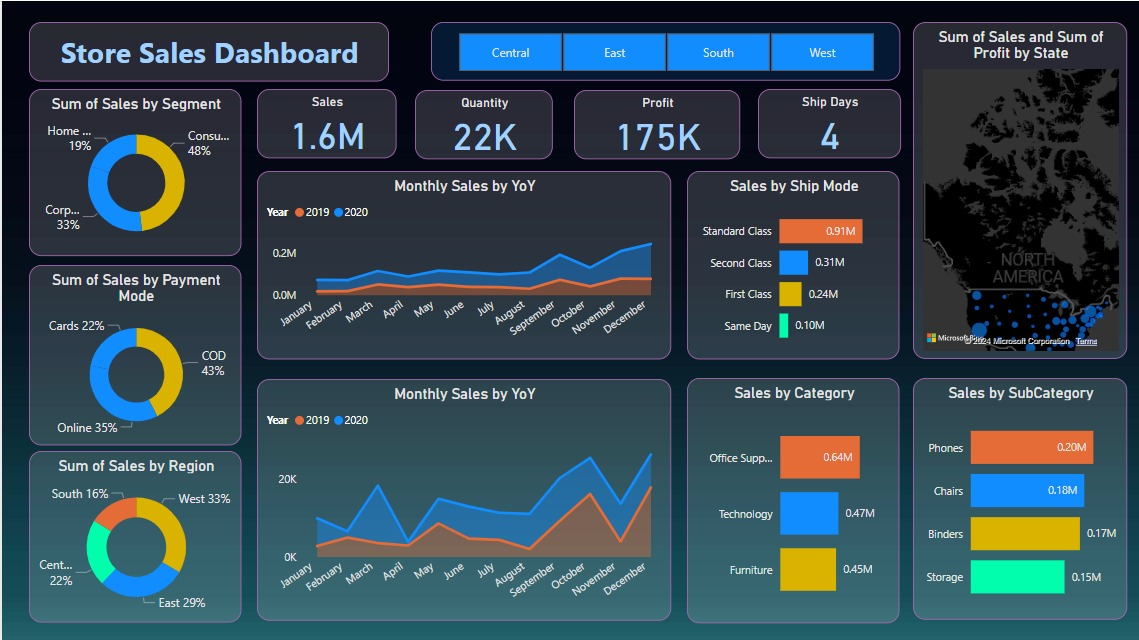

This screenshot's page, from the dashboard's own definition file:
{"tool":"powerbi","page":{"name":"Page 1","canvas":[1280,720],"ordinal":0},"visuals":[{"type":"clusteredBarChart","title":"Sales by Category","fields":{"Category":["SuperStore_Sales_Dataset.Category"],"Y":["Sum(SuperStore_Sales_Dataset.Sales)"]},"box":[771.1,423.7,239.5,276.3],"z":0},{"type":"clusteredBarChart","title":"Sales by SubCategory","fields":{"Y":["Sum(SuperStore_Sales_Dataset.Sales)"],"Category":["SuperStore_Sales_Dataset.Sub-Category"]},"box":[1025,423.7,240.8,272.4],"z":1000},{"type":"stackedAreaChart","title":"Monthly Sales by YoY","fields":{"Category":["SuperStore_Sales_Dataset.Order Date.Variation.Date Hierarchy.Month","SuperStore_Sales_Dataset.Order Date.Variation.Date Hierarchy.Day"],"Y":["Sum(SuperStore_Sales_Dataset.Sales)"],"Series":["SuperStore_Sales_Dataset.Order Date.Variation.Date Hierarchy.Year"]},"box":[286.8,190.8,465.8,211.8],"z":2000},{"type":"stackedAreaChart","title":"Monthly Sales by YoY","fields":{"Category":["SuperStore_Sales_Dataset.Order Date.Variation.Date Hierarchy.Month","SuperStore_Sales_Dataset.Order Date.Variation.Date Hierarchy.Day"],"Series":["SuperStore_Sales_Dataset.Order Date.Variation.Date Hierarchy.Year"],"Y":["Sum(SuperStore_Sales_Dataset.Profit)"]},"box":[286.8,425,465.8,272.4],"z":3000},{"type":"map","fields":{"Category":["SuperStore_Sales_Dataset.State"],"Size":["Sum(SuperStore_Sales_Dataset.Sales)"]},"box":[1025,23.7,240.8,378.9],"z":4000},{"type":"donutChart","fields":{"Category":["SuperStore_Sales_Dataset.Segment"],"Y":["Sum(SuperStore_Sales_Dataset.Sales)"]},"box":[30.3,98.7,239.5,188.2],"z":5000},{"type":"donutChart","fields":{"Y":["Sum(SuperStore_Sales_Dataset.Sales)"],"Category":["SuperStore_Sales_Dataset.Payment Mode"]},"box":[30.3,297.4,239.5,202.6],"z":6000},{"type":"donutChart","fields":{"Category":["SuperStore_Sales_Dataset.Region"],"Y":["Sum(SuperStore_Sales_Dataset.Sales)"]},"box":[30.3,506.6,239.5,193.4],"z":7000},{"type":"clusteredBarChart","title":"Sales by Ship Mode","fields":{"Category":["SuperStore_Sales_Dataset.Ship Mode"],"Y":["Sum(SuperStore_Sales_Dataset.Sales)"]},"box":[771.1,190.8,239.5,211.8],"z":8000},{"type":"slicer","fields":{"Values":["SuperStore_Sales_Dataset.Region"]},"box":[482.9,23.7,527.6,65.8],"z":9000},{"type":"textbox","box":[30.8,23.1,404.8,66.8],"z":10000},{"type":"card","title":"Sales","fields":{"Values":["Sum(SuperStore_Sales_Dataset.Sales)"]},"box":[286.8,98.7,156.6,77.6],"z":11000},{"type":"card","title":"Quantity","fields":{"Values":["Sum(SuperStore_Sales_Dataset.Quantity)"]},"box":[464.5,100,155.3,77.6],"z":12000},{"type":"card","title":"Profit","fields":{"Values":["Sum(SuperStore_Sales_Dataset.Profit)"]},"box":[643.4,100,186.8,77.6],"z":13000},{"type":"card","title":"Ship Days","fields":{"Values":["Avg(SuperStore_Sales_Dataset.AvgDelivery)"]},"box":[850,98.7,160.5,77.6],"z":14000}]}

Visuals, with their boxes in screenshot pixels (x1, y1, x2, y2), scaled from the page's 1280x720 canvas onto the 1139x640 screenshot:
"Sales by Category" clusteredBarChart: {"left": 686, "top": 377, "right": 899, "bottom": 622}
"Sales by SubCategory" clusteredBarChart: {"left": 912, "top": 377, "right": 1126, "bottom": 619}
"Monthly Sales by YoY" stackedAreaChart: {"left": 255, "top": 170, "right": 670, "bottom": 358}
"Monthly Sales by YoY" stackedAreaChart: {"left": 255, "top": 378, "right": 670, "bottom": 620}
map - SuperStore_Sales_Dataset.State x Sum(SuperStore_Sales_Dataset.Sales): {"left": 912, "top": 21, "right": 1126, "bottom": 358}
donutChart - SuperStore_Sales_Dataset.Segment x Sum(SuperStore_Sales_Dataset.Sales): {"left": 27, "top": 88, "right": 240, "bottom": 255}
donutChart - Sum(SuperStore_Sales_Dataset.Sales) x SuperStore_Sales_Dataset.Payment Mode: {"left": 27, "top": 264, "right": 240, "bottom": 444}
donutChart - SuperStore_Sales_Dataset.Region x Sum(SuperStore_Sales_Dataset.Sales): {"left": 27, "top": 450, "right": 240, "bottom": 622}
"Sales by Ship Mode" clusteredBarChart: {"left": 686, "top": 170, "right": 899, "bottom": 358}
slicer - SuperStore_Sales_Dataset.Region: {"left": 430, "top": 21, "right": 899, "bottom": 80}
textbox: {"left": 27, "top": 21, "right": 388, "bottom": 80}
"Sales" card: {"left": 255, "top": 88, "right": 395, "bottom": 157}
"Quantity" card: {"left": 413, "top": 89, "right": 552, "bottom": 158}
"Profit" card: {"left": 573, "top": 89, "right": 739, "bottom": 158}
"Ship Days" card: {"left": 756, "top": 88, "right": 899, "bottom": 157}
